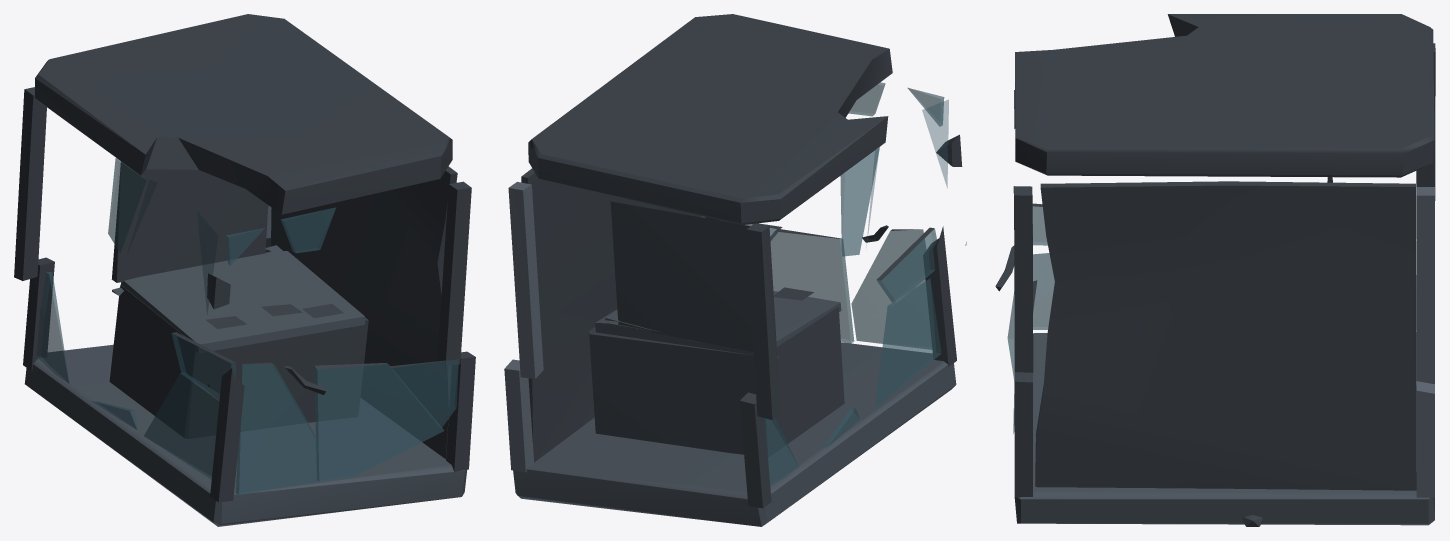
Rendered from hlx_deb_control_pod_glass_a.glb.
3 views of the same model, side by side, from view 1: azimuth 30°, elevation 25°; view 2: azimuth 150°, elevation 25°; view 3: azimuth 270°, elevation 25° (orthographic). The views are drawn at different scales.
Parts seen in each view (by area): view 1: husk, frag_04, frag_01, frag_03, frag_02; view 2: husk, frag_04, frag_03, frag_01; view 3: frag_01, frag_04, husk, frag_03.
Boxes of the visible parts, x1,y1,x2,y2 form: husk: (23, 238, 475, 526); frag_04: (35, 14, 452, 265); frag_01: (271, 166, 457, 458); frag_03: (14, 87, 471, 387); frag_02: (112, 245, 354, 314); husk: (504, 216, 956, 526); frag_04: (528, 14, 944, 224); frag_03: (508, 99, 966, 419); frag_01: (521, 168, 700, 462); frag_01: (1035, 181, 1416, 490); frag_04: (1015, 14, 1434, 177); husk: (995, 203, 1434, 526); frag_03: (1013, 43, 1435, 384).
Size of the model in its own units: 0.6348 by 0.8096 by 0.8375.
